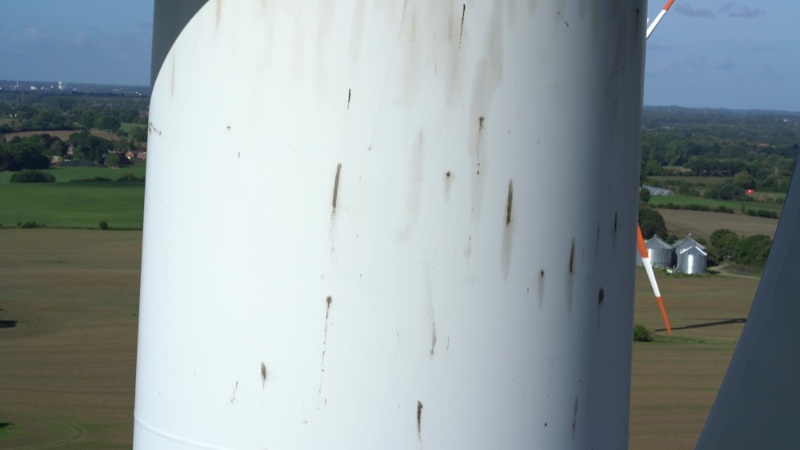weldseam: (129, 407, 235, 450)
